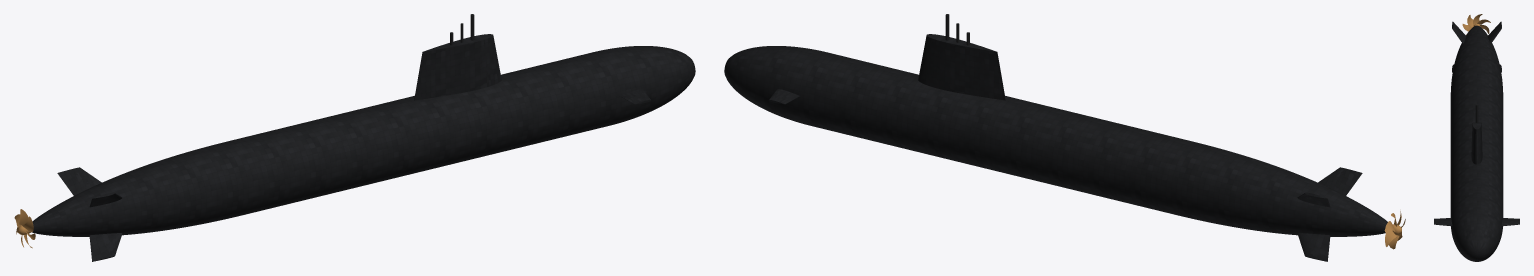
Rendered from submarine.glb.
3 views of the same model, side by side, from view 1: azimuth 30°, elevation 25°; view 2: azimuth 150°, elevation 25°; view 3: azimuth 270°, elevation 25° (orthographic). The views are drawn at different scales.
Visible parts, largest first — view 1: Pressure hull, Sail, Control surfaces, Propeller; view 2: Pressure hull, Sail, Control surfaces, Propeller; view 3: Pressure hull, Control surfaces, Sail, Propeller.
Part boxes in pixels (<box>): Pressure hull: <box>32,46,695,236</box>; Sail: <box>414,14,501,100</box>; Control surfaces: <box>57,89,650,261</box>; Propeller: <box>14,209,35,248</box>; Pressure hull: <box>724,46,1387,236</box>; Sail: <box>918,14,1005,100</box>; Control surfaces: <box>768,89,1362,261</box>; Propeller: <box>1384,211,1405,249</box>; Pressure hull: <box>1450,25,1503,261</box>; Control surfaces: <box>1434,21,1519,226</box>; Sail: <box>1471,104,1482,164</box>; Propeller: <box>1462,14,1490,34</box>.
Bounding box in the file's own units: 65.27 × 12.9 × 10.3.
3 materials, 3 textured.
